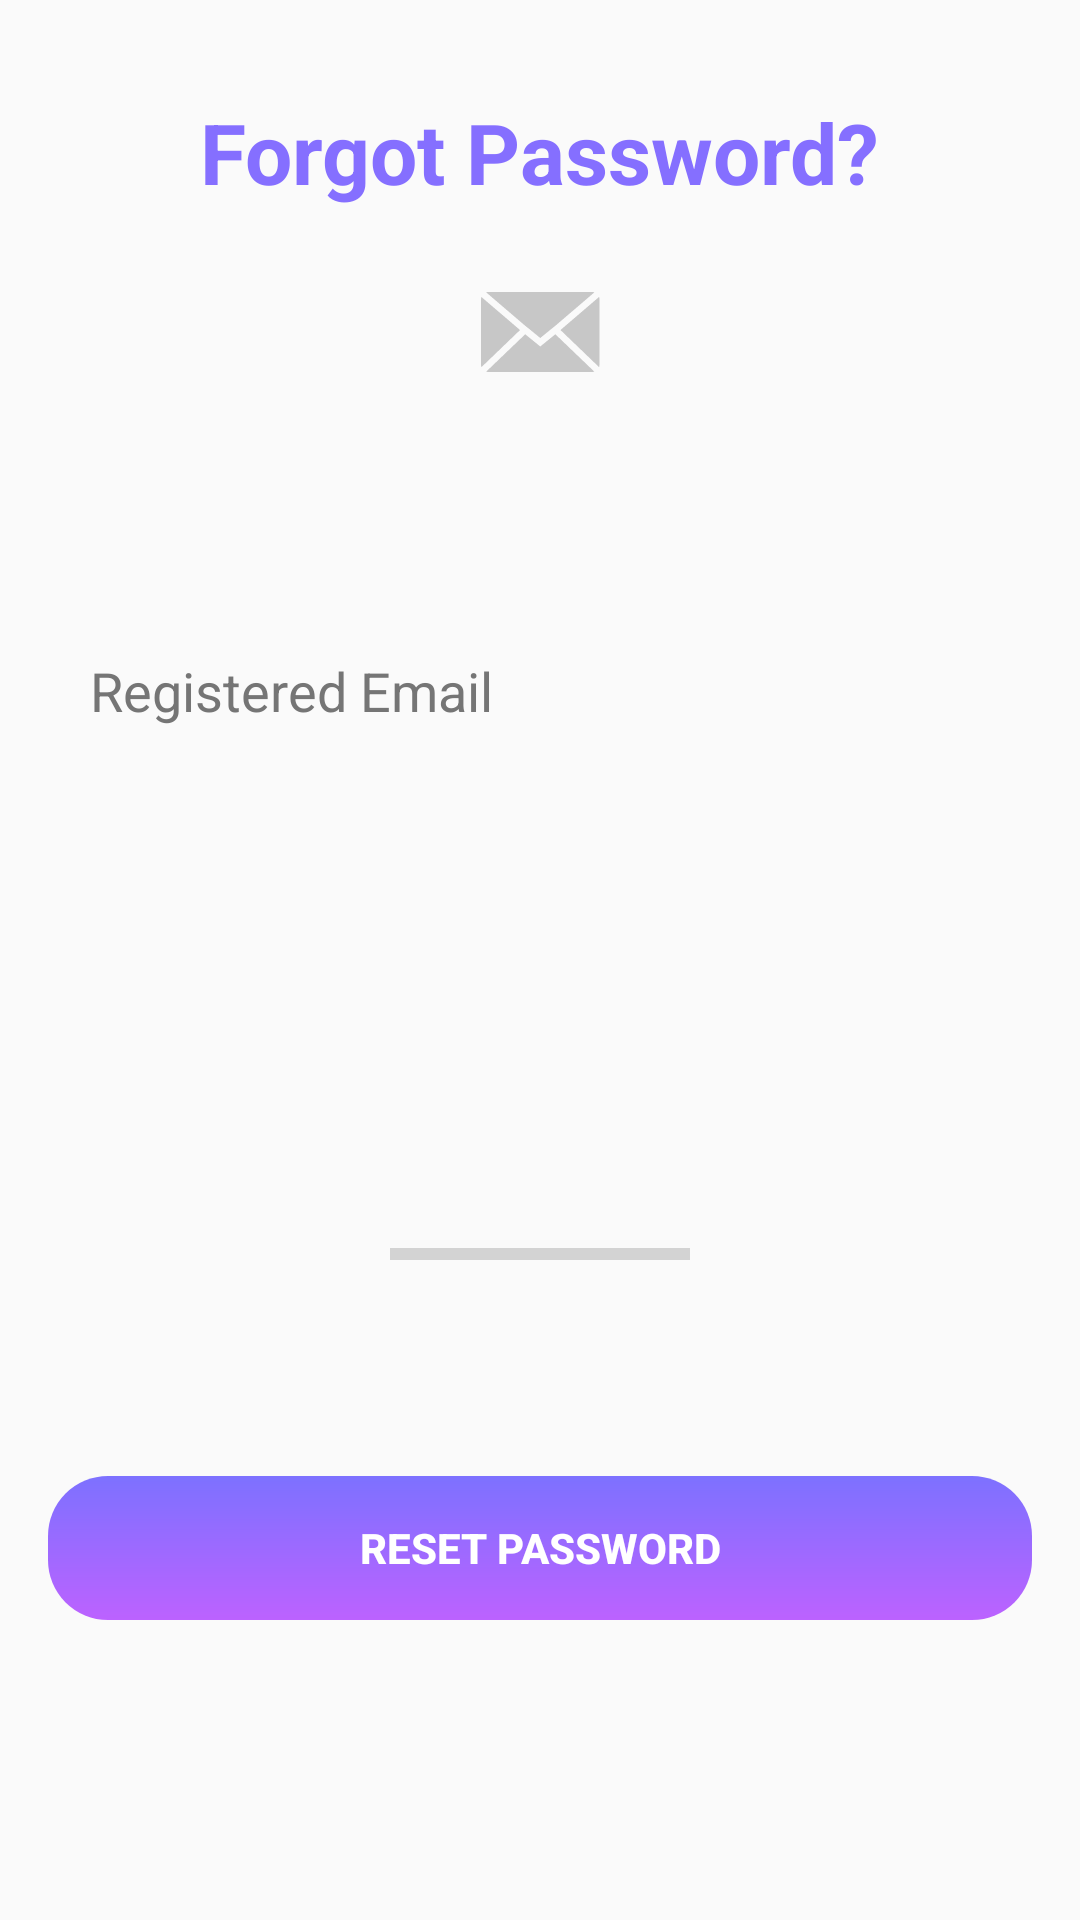

Named icons in this screenshot (1080x1920) and their bounding boxes, (x1, y1, x2, y2):
mail: (481, 292, 600, 372)
